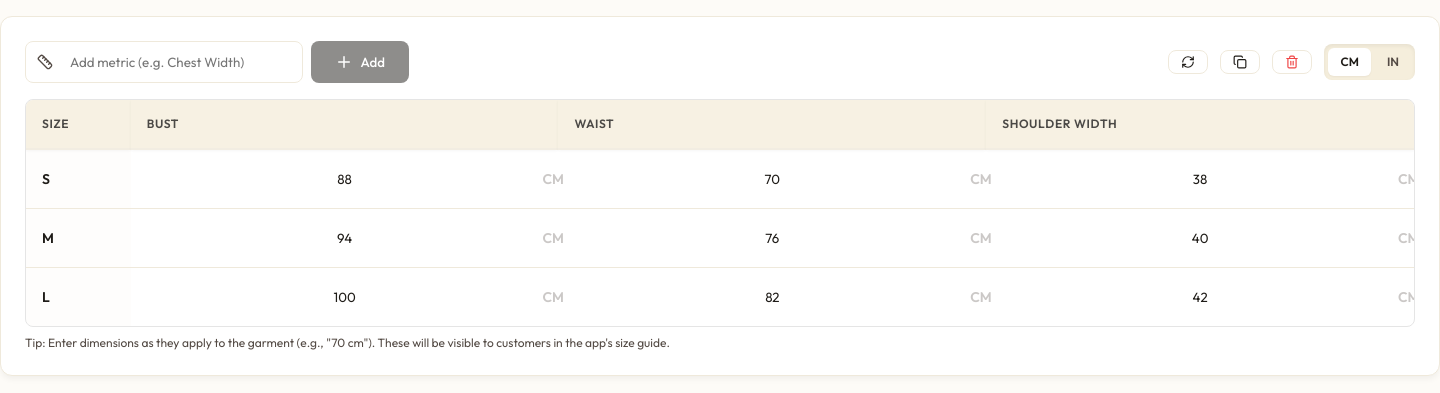
it: MeasurementTable Component › toggles unit between CM and IN and converts values
Step 1. Click the button "IN" → x=1393, y=62, box [1375,48,1411,76]
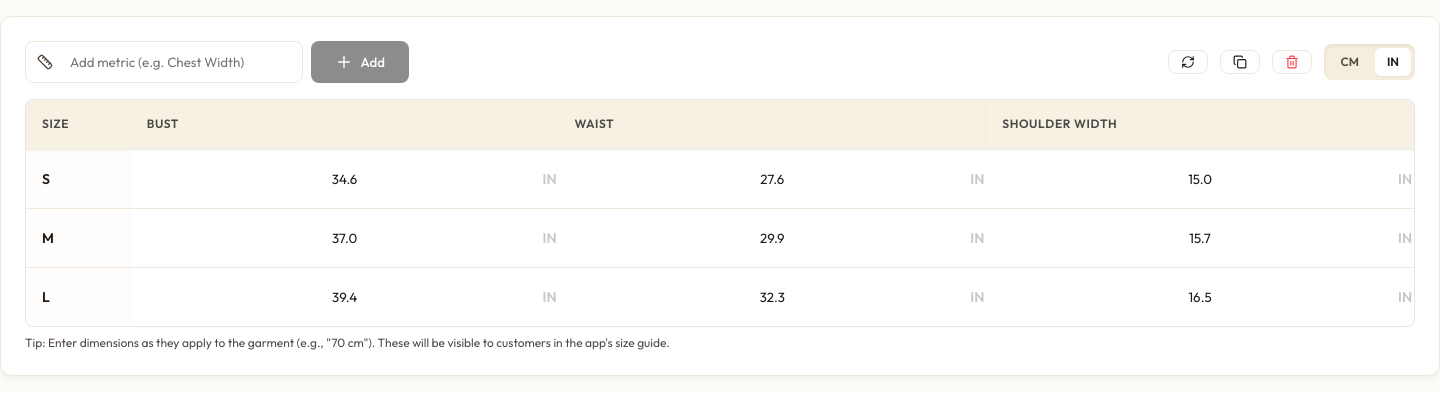
Check: the 1st field showing "34.6" is shown, box [147,162,542,196]
Check: the 2nd field showing "27.6" is shown, box [574,162,970,196]
Step 2. Click the button "CM" → x=1350, y=62, box [1328,48,1371,76]
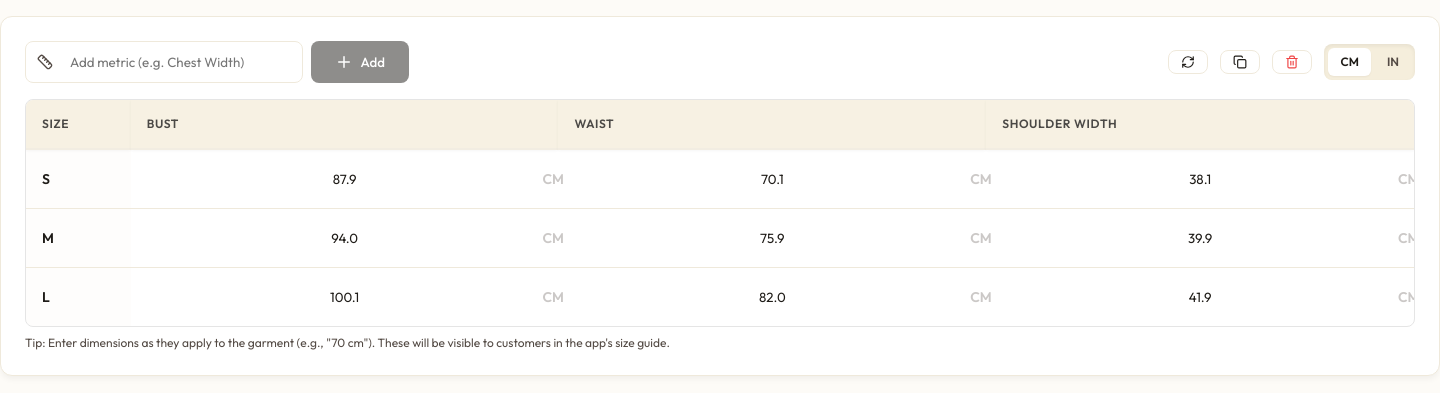
Check: the 1st field showing "87.9" is shown, box [147,162,542,196]
